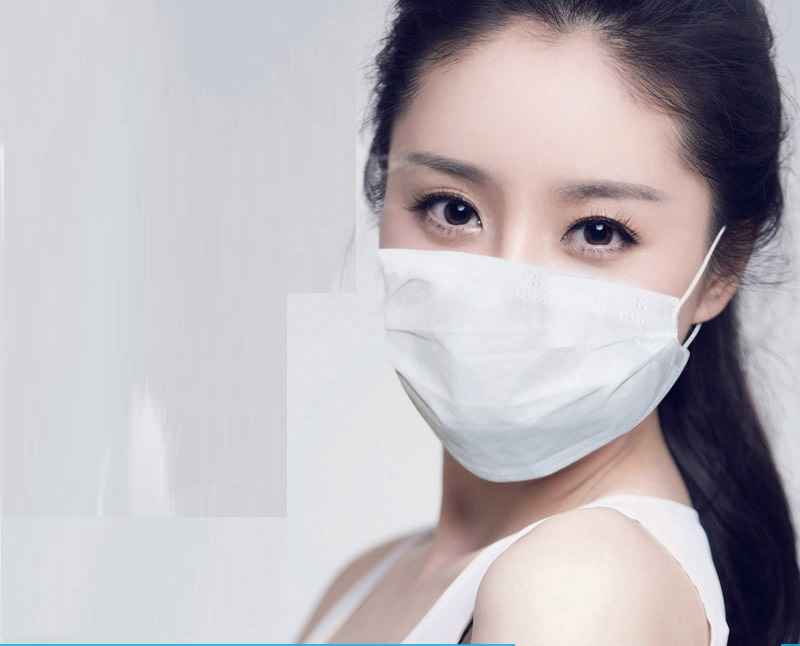face_mask: (377, 47, 690, 489)
